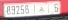2: (16, 5, 21, 14)
5: (20, 4, 24, 14)
6: (53, 3, 59, 12)
8: (6, 5, 11, 15), (24, 5, 29, 14)
9: (11, 4, 16, 14)
h: (38, 6, 45, 13)
